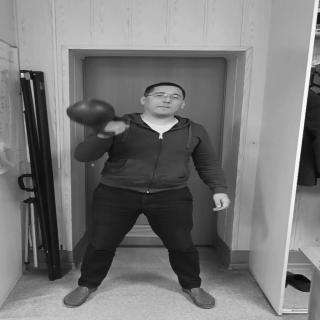kettlebell: (64, 99, 129, 138)
